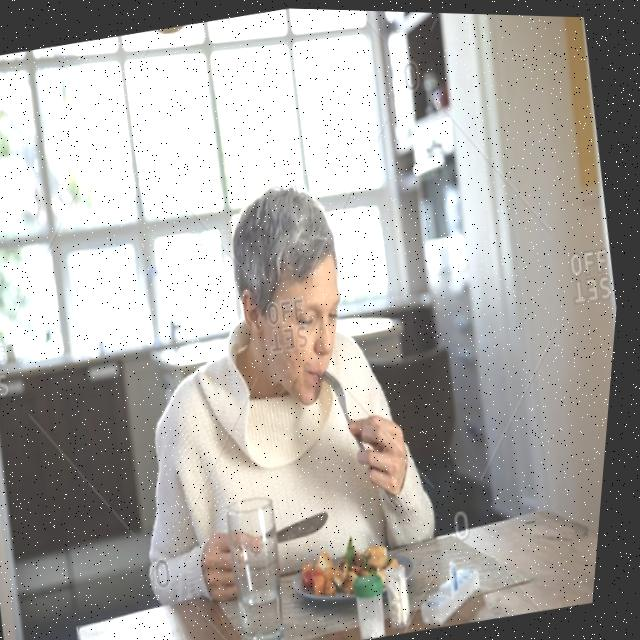eating-person: (79, 129, 533, 640)
